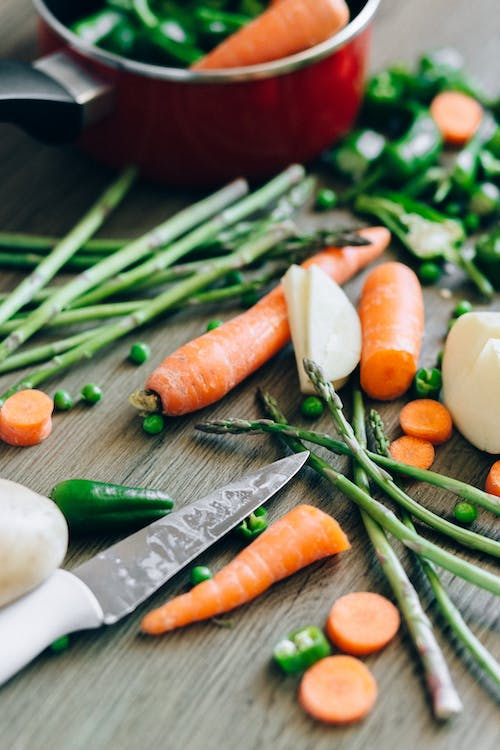knife: (0, 446, 313, 689)
